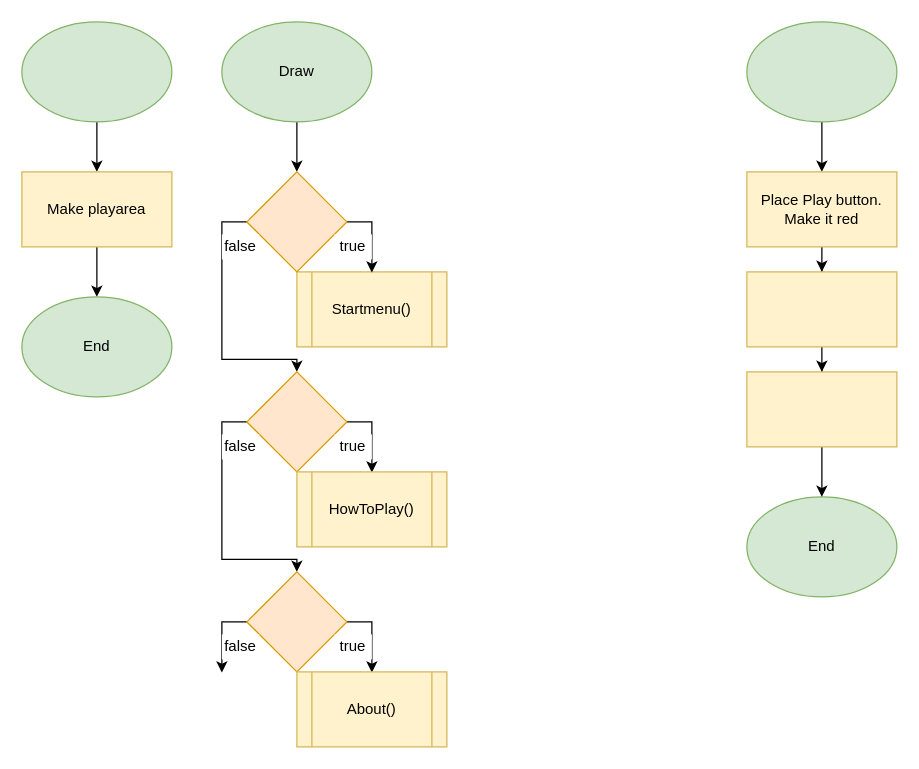
Some shapes in this 919 by 769 pixel diagram are drawn without their labels. The shapes that lost their labels are listed below. From the top down, each one's centre as x and y in pixels, then its label:
At point 96,71: "Setup".
At point 821,71: "Start menu".
At point 296,221: "Is StartMenu true?".
At point 821,309: "Make HowToPlay button. Make it orange".
At point 296,421: "Is HowToPlay true?".
At point 821,409: "Make About button. Make it orange".
At point 296,621: "Is About true?".
